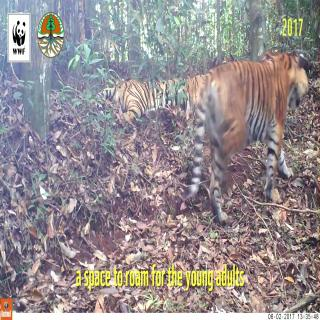Tiger: (190, 41, 313, 222), (101, 65, 194, 130)
